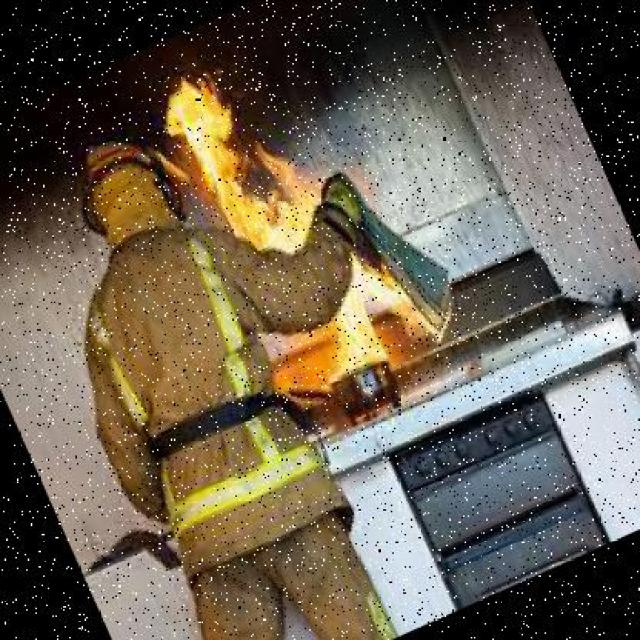fire: (129, 19, 465, 418)
